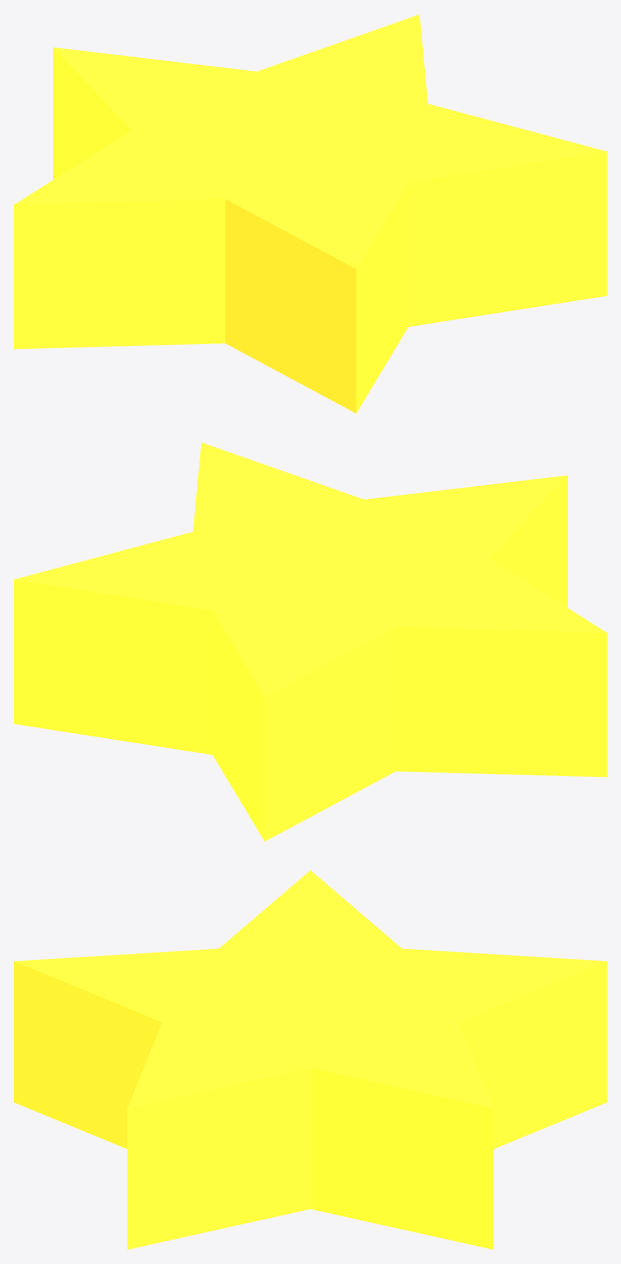
The model's file is item.fbx.
The picture shows the model from 3 angles, top to bottom: view 1: azimuth 30°, elevation 25°; view 2: azimuth 150°, elevation 25°; view 3: azimuth 270°, elevation 25°; orthographic projection. The views are drawn at different scales.
Visible parts, largest first — view 1: Star; view 2: Star; view 3: Star.
Part boxes in pixels (x1=…): Star: x1=14, y1=14, x2=606, y2=413; Star: x1=14, y1=442, x2=606, y2=841; Star: x1=14, y1=870, x2=606, y2=1249.
Bounding box in the file's own units: 181 × 50 × 190.
